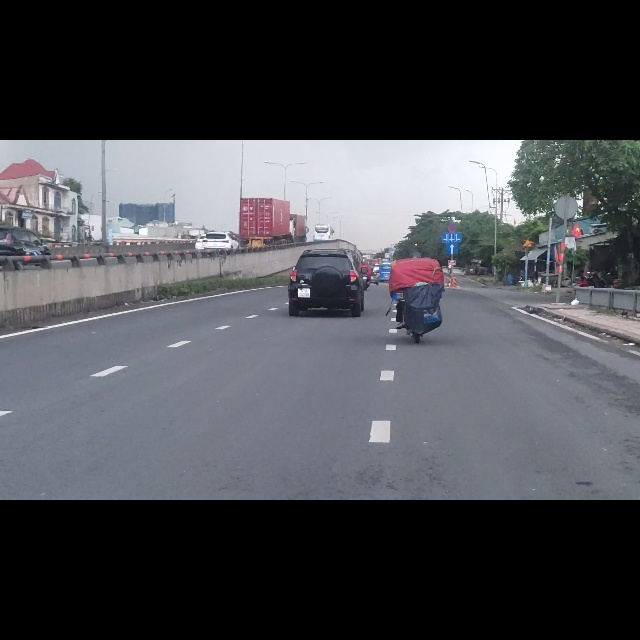bien_nguy_hiem: (446, 181, 458, 203), (448, 149, 457, 165), (523, 175, 532, 190)
